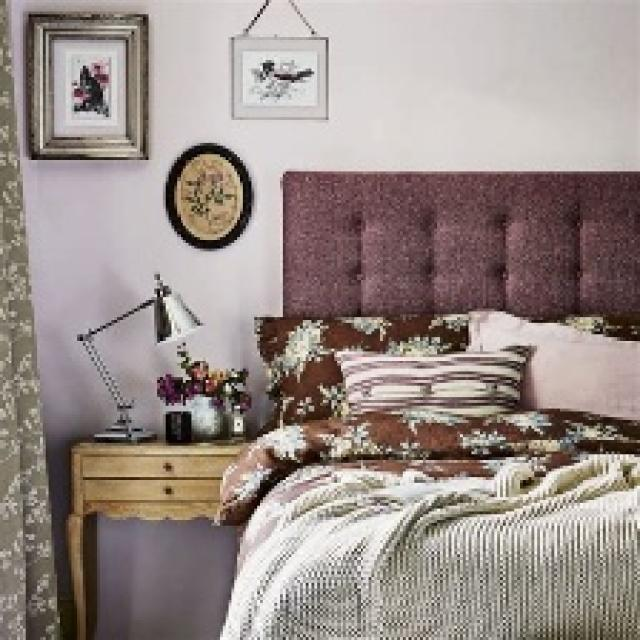Bed: (209, 169, 637, 637)
